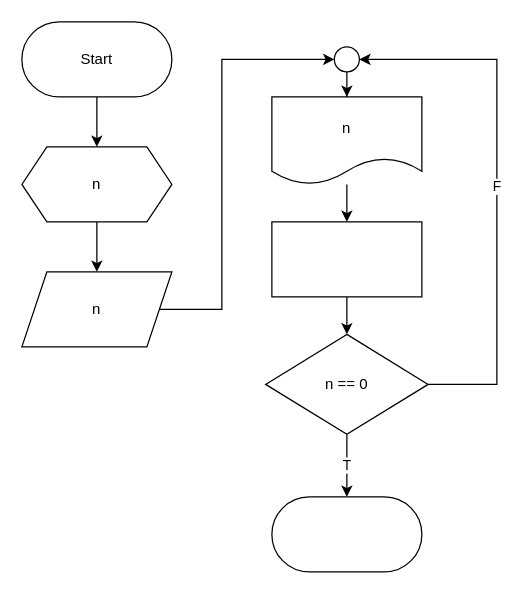
The diagram is 529 pixels wide and 594 high, and some of its shapes have lost their labels. Each missing label, with the box of its shape:
End: (271, 496, 422, 572)
n -= 1: (271, 221, 422, 297)
